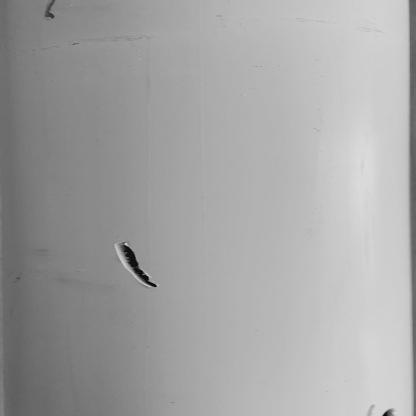kongdong: (116, 236, 167, 297)
